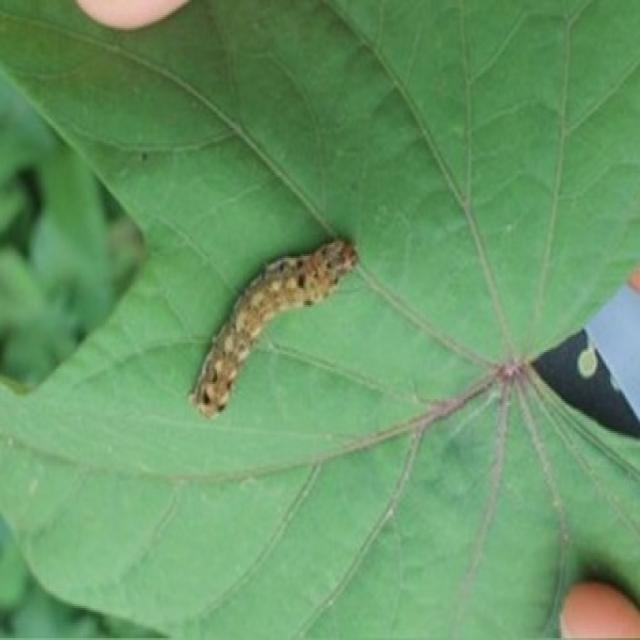armyworm: (187, 233, 359, 420)
